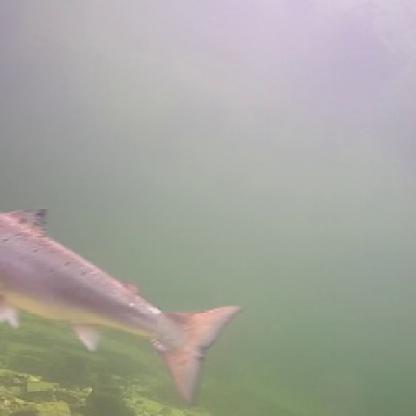salmon: (0, 205, 248, 409)
